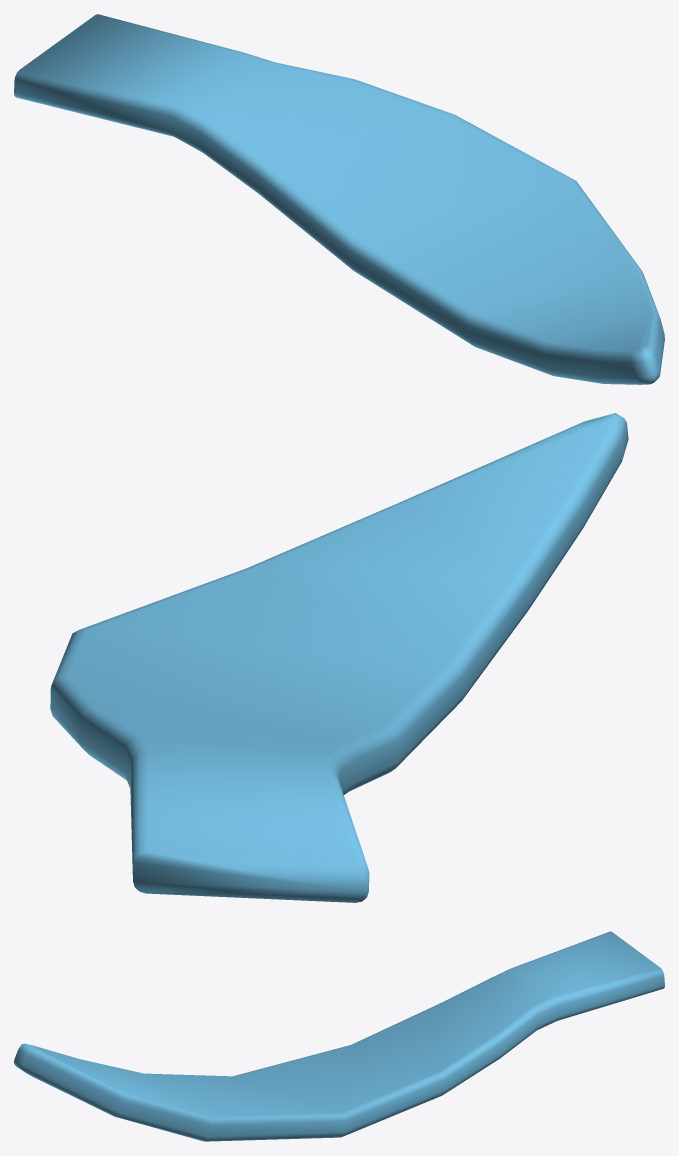
The model's file is TFeetR.fbx.
3 renders of one model, top to bottom at view 1: azimuth 30°, elevation 25°; view 2: azimuth 150°, elevation 25°; view 3: azimuth 270°, elevation 25°, orthographic. The views are drawn at different scales.
Parts seen in each view (by area): view 1: TFeet.R; view 2: TFeet.R; view 3: TFeet.R.
Part boxes in pixels (box(x1,y1,x2,y2)): TFeet.R: box(14, 14, 664, 384); TFeet.R: box(50, 413, 628, 902); TFeet.R: box(14, 931, 664, 1141).
Size of the model in its own units: 119 by 40.84 by 237.
